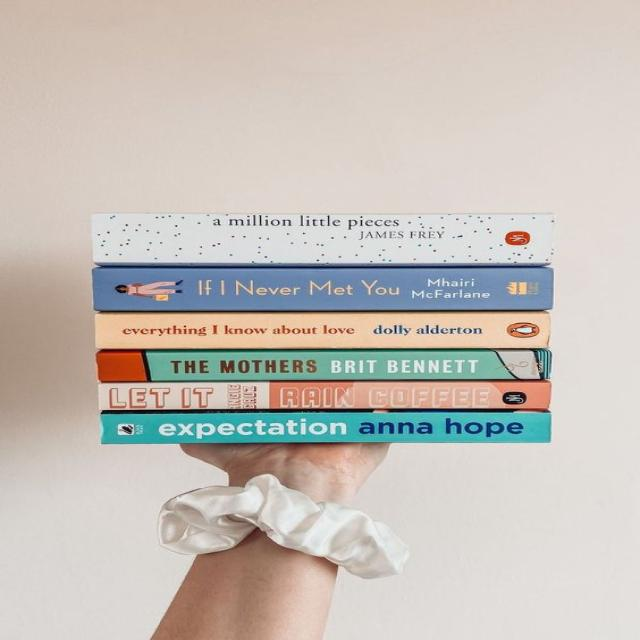book: (92, 213, 554, 266), (93, 266, 553, 312), (100, 371, 548, 412), (95, 312, 549, 349), (101, 412, 550, 444), (96, 350, 550, 381)
